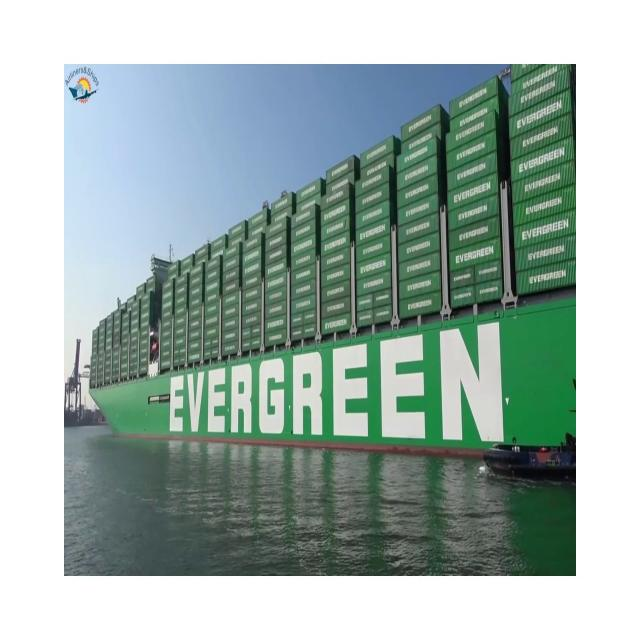OCR: (163, 318, 530, 453)
